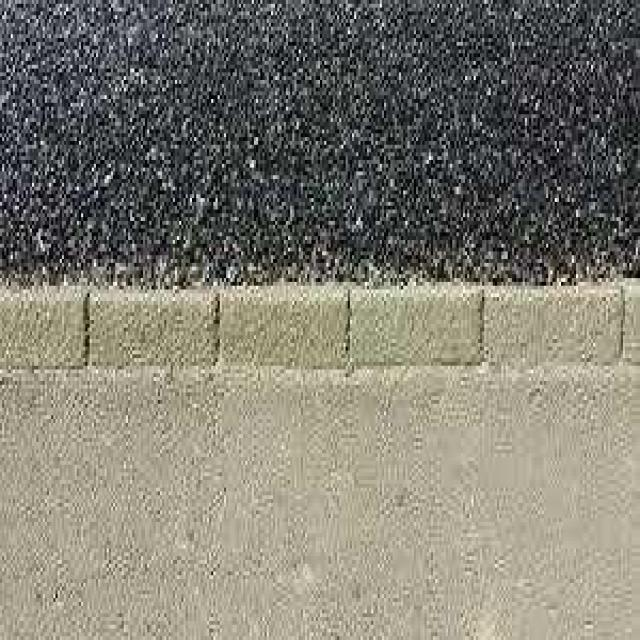curb: (1, 286, 640, 372)
